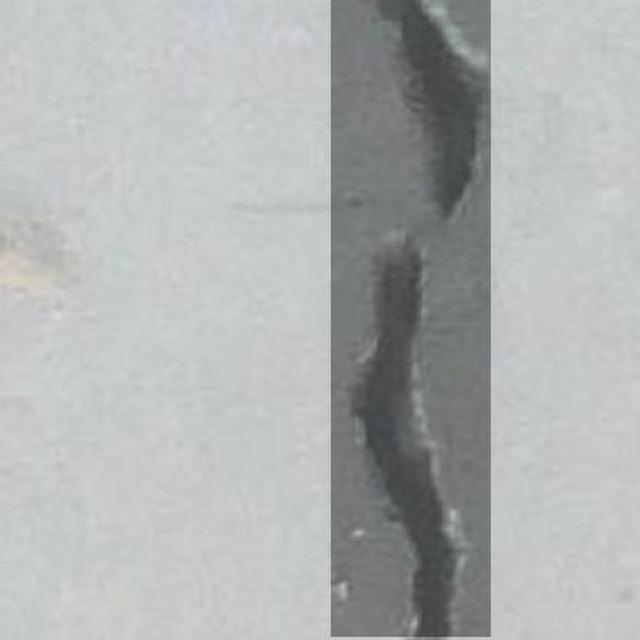Crack: (327, 0, 485, 638)
